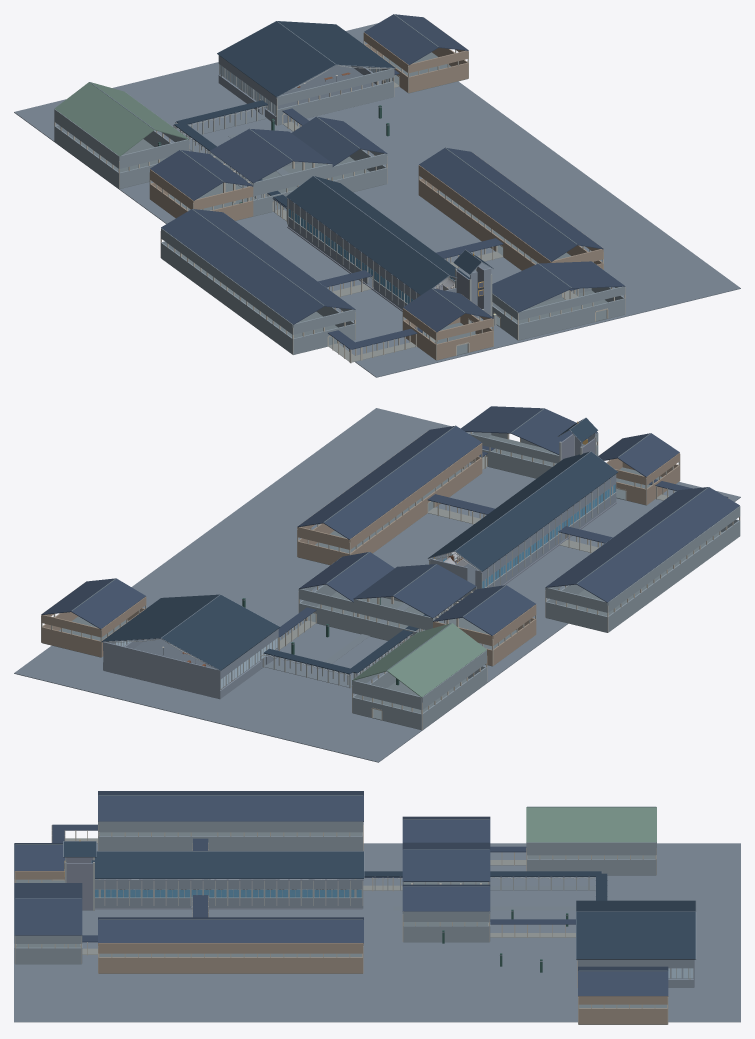
The model's file is lahudi-academy_LOCKED-PLAN-SHELL_RB2_v9.glb.
The picture shows the model from 3 angles, top to bottom: view 1: azimuth 30°, elevation 25°; view 2: azimuth 150°, elevation 25°; view 3: azimuth 270°, elevation 25°; orthographic projection.
Parts seen in each view (by area): view 1: RG-GAME-02-EXTERIOR-REBUILD-V5__winter_campus_snowbase, RG-GAME-02-EXTERIOR-REBUILD-V5__academic_high_gable_slate_ro (×2), RG-GAME-02-EXTERIOR-REBUILD-V5__library_high_gable_slate_roo (×2), RG-GAME-02-PLAN-LOCK-V9__B_WEST_side_0, RG-GAME-02-PLAN-LOCK-V9__C_EAST_side_0, RG-GAME-02-PLAN-LOCK-V9__G_ASSEMBLY_side_0, RG-GAME-02-PLAN-LOCK-V9__B_WEST_side_1, RG-GAME-02-PLAN-LOCK-V9__B_WEST_west_wall_band_-68.00_24.00 (×2), RG-GAME-02-PLAN-LOCK-V9__C_EAST_west_wall_band_-68.00_24.00 (×2), RG-GAME-02-PLAN-LOCK-V9__E_CENTER_HALL_side_0, RG-GAME-02-PLAN-LOCK-V9__D_EAST_ENTRY_side_0, RG-GAME-02-PLAN-LOCK-V9__C_EAST_side_1 (+26 smaller); view 2: RG-GAME-02-EXTERIOR-REBUILD-V5__winter_campus_snowbase, RG-GAME-02-EXTERIOR-REBUILD-V5__academic_high_gable_slate_ro (×2), RG-GAME-02-EXTERIOR-REBUILD-V5__library_high_gable_slate_roo (×2), RG-GAME-02-PLAN-LOCK-V9__B_WEST_side_0, RG-GAME-02-PLAN-LOCK-V9__C_EAST_side_0, RG-GAME-02-EXTERIOR-REBUILD-V5__library_endwall_north, RG-GAME-02-PLAN-LOCK-V9__G_ASSEMBLY_side_0, RG-GAME-02-PLAN-LOCK-V9__B_WEST_side_1, RG-GAME-02-PLAN-LOCK-V9__B_WEST_west_wall_band_-68.00_24.00 (×2), RG-GAME-02-PLAN-LOCK-V9__C_EAST_west_wall_band_-68.00_24.00 (×2), RG-GAME-02-PLAN-LOCK-V9__E_CENTER_HALL_side_0, RG-GAME-02-PLAN-LOCK-V9__C_EAST_side_1 (+29 smaller); view 3: RG-GAME-02-EXTERIOR-REBUILD-V5__winter_campus_snowbase, RG-GAME-02-EXTERIOR-REBUILD-V5__academic_high_gable_slate_ro, RG-GAME-02-EXTERIOR-REBUILD-V5__library_high_gable_slate_roo (×2), RG-GAME-02-PLAN-LOCK-V9__B_WEST_side_1, RG-GAME-02-PLAN-LOCK-V9__C_EAST_side_1, RG-GAME-02-PLAN-LOCK-V9__C_EAST_east_wall_band_-68.00_24.00 (×2), RG-GAME-02-PLAN-LOCK-V9__B_WEST_east_wall_band_-68.00_24.00 (×2), RG-GAME-02-PLAN-LOCK-V9__G_ASSEMBLY_side_1, RG-GAME-02-PLAN-LOCK-V9__E_CENTER_HALL_side_1, RG-GAME-02-PLAN-LOCK-V9__G_ASSEMBLY_east_wall_band_-170.00_- (×2), RG-GAME-02-PLAN-LOCK-V9__C_EAST_east_low_wall_-68.00_24.00, RG-GAME-02-PLAN-LOCK-V9__D_EAST_ENTRY_side_1 (+31 smaller).
Boxes of the visible parts, box(x1,y1,x2,y2) form: RG-GAME-02-EXTERIOR-REBUILD-V5__winter_campus_snowbase: box(14, 23, 740, 377); RG-GAME-02-EXTERIOR-REBUILD-V5__academic_high_gable_slate_ro (×2): box(286, 176, 469, 295); RG-GAME-02-EXTERIOR-REBUILD-V5__library_high_gable_slate_roo (×2): box(217, 21, 395, 97); RG-GAME-02-PLAN-LOCK-V9__B_WEST_side_0: box(161, 209, 324, 324); RG-GAME-02-PLAN-LOCK-V9__C_EAST_side_0: box(419, 148, 577, 261); RG-GAME-02-PLAN-LOCK-V9__G_ASSEMBLY_side_0: box(54, 82, 154, 156); RG-GAME-02-PLAN-LOCK-V9__B_WEST_side_1: box(193, 209, 355, 309); RG-GAME-02-PLAN-LOCK-V9__B_WEST_west_wall_band_-68.00_24.00 (×2): box(161, 228, 292, 344); RG-GAME-02-PLAN-LOCK-V9__C_EAST_west_wall_band_-68.00_24.00 (×2): box(418, 165, 550, 266); RG-GAME-02-PLAN-LOCK-V9__E_CENTER_HALL_side_0: box(210, 129, 292, 183); RG-GAME-02-PLAN-LOCK-V9__D_EAST_ENTRY_side_0: box(492, 264, 571, 312); RG-GAME-02-PLAN-LOCK-V9__C_EAST_side_1: box(445, 147, 603, 249); RG-GAME-02-EXTERIOR-REBUILD-V5__winter_campus_snowbase: box(14, 408, 740, 762); RG-GAME-02-EXTERIOR-REBUILD-V5__academic_high_gable_slate_ro (×2): box(428, 451, 617, 571); RG-GAME-02-EXTERIOR-REBUILD-V5__library_high_gable_slate_roo (×2): box(102, 594, 279, 670); RG-GAME-02-PLAN-LOCK-V9__B_WEST_side_0: box(576, 487, 739, 602); RG-GAME-02-PLAN-LOCK-V9__C_EAST_side_0: box(323, 426, 481, 539); RG-GAME-02-EXTERIOR-REBUILD-V5__library_endwall_north: box(103, 642, 220, 698); RG-GAME-02-PLAN-LOCK-V9__G_ASSEMBLY_side_0: box(387, 623, 486, 697); RG-GAME-02-PLAN-LOCK-V9__B_WEST_side_1: box(545, 487, 707, 587); RG-GAME-02-PLAN-LOCK-V9__B_WEST_west_wall_band_-68.00_24.00 (×2): box(608, 506, 740, 623); RG-GAME-02-PLAN-LOCK-V9__C_EAST_west_wall_band_-68.00_24.00 (×2): box(350, 443, 482, 554); RG-GAME-02-PLAN-LOCK-V9__E_CENTER_HALL_side_0: box(393, 564, 476, 618); RG-GAME-02-PLAN-LOCK-V9__C_EAST_side_1: box(297, 425, 455, 527); RG-GAME-02-EXTERIOR-REBUILD-V5__winter_campus_snowbase: box(14, 843, 740, 1022); RG-GAME-02-EXTERIOR-REBUILD-V5__academic_high_gable_slate_ro: box(91, 851, 363, 878); RG-GAME-02-EXTERIOR-REBUILD-V5__library_high_gable_slate_roo (×2): box(576, 900, 695, 959); RG-GAME-02-PLAN-LOCK-V9__B_WEST_side_1: box(98, 795, 363, 821); RG-GAME-02-PLAN-LOCK-V9__C_EAST_side_1: box(98, 919, 363, 942); RG-GAME-02-PLAN-LOCK-V9__C_EAST_east_wall_band_-68.00_24.00 (×2): box(98, 943, 362, 964); RG-GAME-02-PLAN-LOCK-V9__B_WEST_east_wall_band_-68.00_24.00 (×2): box(98, 821, 362, 842); RG-GAME-02-PLAN-LOCK-V9__G_ASSEMBLY_side_1: box(526, 807, 656, 842); RG-GAME-02-PLAN-LOCK-V9__E_CENTER_HALL_side_1: box(402, 849, 490, 881); RG-GAME-02-PLAN-LOCK-V9__G_ASSEMBLY_east_wall_band_-170.00_- (×2): box(527, 842, 656, 865); RG-GAME-02-PLAN-LOCK-V9__C_EAST_east_low_wall_-68.00_24.00: box(98, 964, 362, 973); RG-GAME-02-PLAN-LOCK-V9__D_EAST_ENTRY_side_1: box(14, 898, 82, 935).
Size of the model in its own units: 167 by 26.24 by 253.
